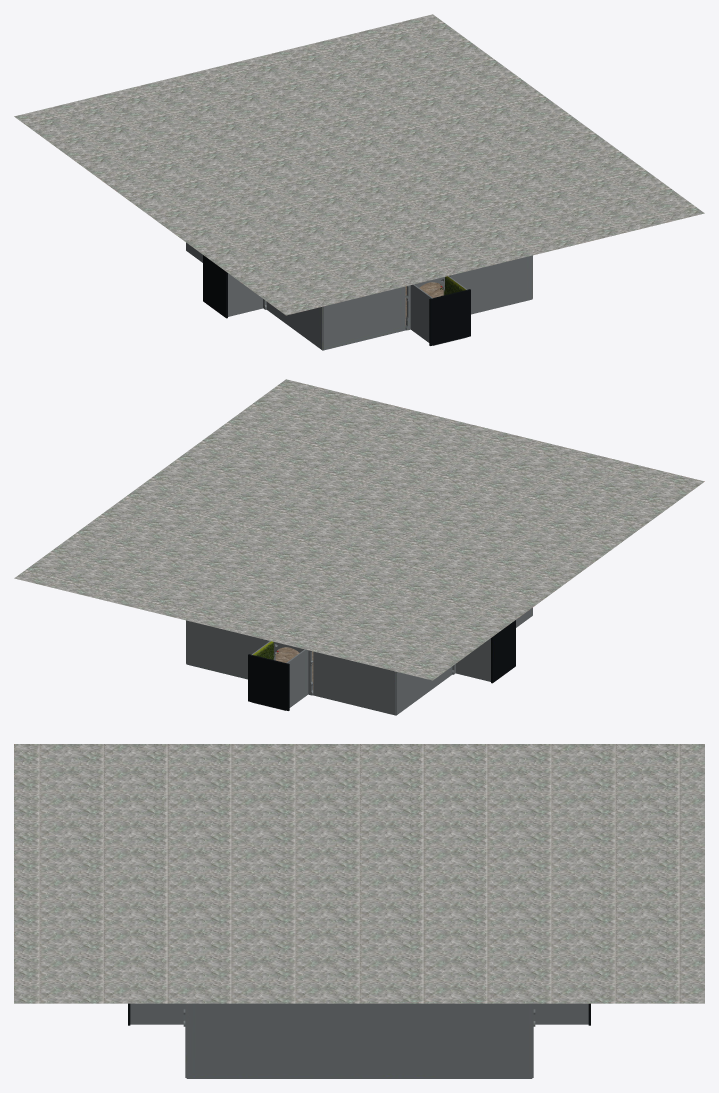
Rendered from room.glb.
3 views of the same model, one above another, from view 1: azimuth 30°, elevation 25°; view 2: azimuth 150°, elevation 25°; view 3: azimuth 270°, elevation 25° (orthographic). The views are drawn at different scales.
Visible parts, largest first — view 1: FORMAL-GARDEN; view 2: FORMAL-GARDEN; view 3: FORMAL-GARDEN.
Boxes of the visible parts, x1,y1,x2,y2 form: FORMAL-GARDEN: [14, 14, 704, 350]; FORMAL-GARDEN: [14, 379, 704, 715]; FORMAL-GARDEN: [14, 744, 704, 1078].
Size of the model in its own units: 32 by 8.06 by 36.
Materials: 1 (1 with a texture image).
